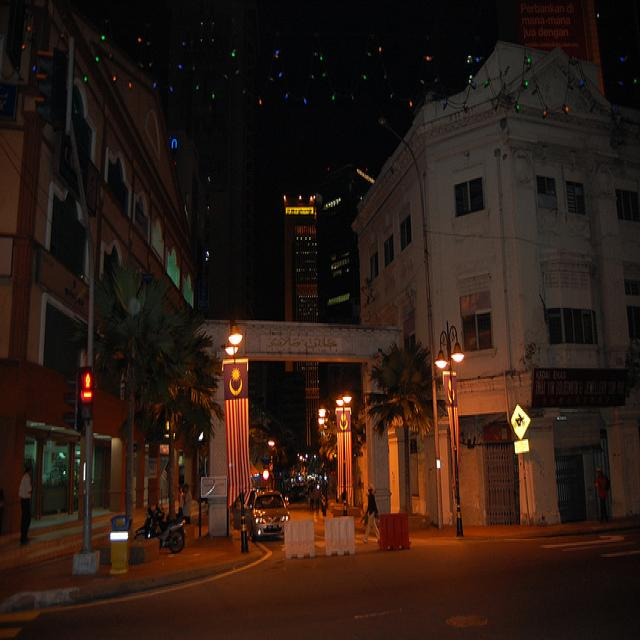People: (13, 460, 40, 545), (587, 460, 619, 523), (360, 478, 388, 547), (318, 474, 334, 523)
car: (140, 496, 192, 560), (250, 489, 299, 541)
